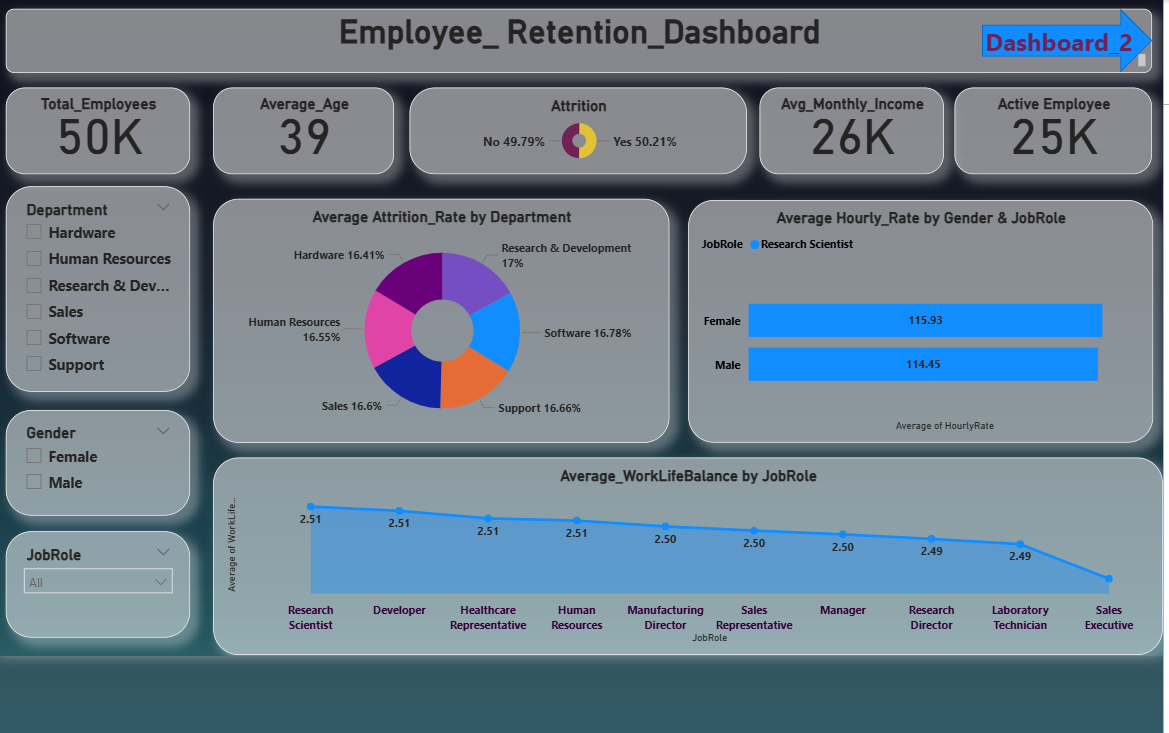

The page's visual inventory and layout, read from the dashboard file:
{"tool":"powerbi","page":{"name":"Dashboard_1","canvas":[1280,720],"ordinal":6},"visuals":[{"type":"card","title":"Total_Employees","fields":{"Values":["CountNonNull(Sheet1 (2).Employee_ID)"]},"box":[10,96.2,202.5,95],"z":0},{"type":"textbox","title":"Employee_ Retention_Dashboard","box":[10,10,1258.8,70],"z":1000},{"type":"card","title":"Average_Age","fields":{"Values":["Avg(Sheet1.Age)"]},"box":[237.5,96.2,198.8,95],"z":2000},{"type":"card","title":"Avg_Monthly_Income","fields":{"Values":["Avg(Sheet1 (2).MonthlyIncome)"]},"box":[837.5,96.2,202.5,95],"z":3000},{"type":"donutChart","title":" Attrition","fields":{"Category":["Sheet1.Attrition"],"Y":["CountNonNull(Sheet1.Attrition)"]},"box":[453.5,96.5,370.3,95.3],"z":4000},{"type":"clusteredBarChart","title":"Average Hourly_Rate by Gender & JobRole","fields":{"Category":["Sheet1.Gender"],"Series":["Sheet1.JobRole"],"Y":["Avg(Sheet1.HourlyRate)"]},"box":[758.6,219.5,510.2,266.5],"z":5000},{"type":"stackedAreaChart","title":"Average_WorkLifeBalance by JobRole","fields":{"Category":["Sheet1.JobRole"],"Y":["Avg(Sheet1 (2).WorkLifeBalance)"]},"box":[237.6,502.9,1042,217.1],"z":6000},{"type":"slicer","fields":{"Values":["Sheet1.Department"]},"box":[9.6,203.8,202.6,225.5],"z":7000},{"type":"slicer","fields":{"Values":["Sheet1.Gender"]},"box":[9.6,449.8,202.6,115.8],"z":8000},{"type":"shape","box":[1081.8,9.6,186.9,69.9],"z":9000},{"type":"slicer","fields":{"Values":["Sheet1.JobRole"]},"box":[9.6,582.5,202.6,117],"z":10000},{"type":"pieChart","title":"Average Attrition_Rate by Department","fields":{"Category":["Sheet1.Department"],"Y":["Avg(Sheet1.Attrition_Rate1)"]},"box":[237.6,218.3,500.5,267.7],"z":11000},{"type":"card","title":"Active Employee","fields":{"Values":["CountNonNull(Sheet1.Attrition)"]},"box":[1051.7,96.5,217.1,95.3],"z":12000}]}

Visuals, with their boxes in screenshot pixels (x1, y1, x2, y2):
"Total_Employees" card: [27, 84, 210, 169]
"Employee_ Retention_Dashboard" textbox: [27, 6, 1161, 69]
"Average_Age" card: [232, 84, 411, 169]
"Avg_Monthly_Income" card: [773, 84, 955, 169]
" Attrition" donutChart: [427, 84, 760, 170]
"Average Hourly_Rate by Gender & JobRole" clusteredBarChart: [702, 195, 1161, 435]
"Average_WorkLifeBalance by JobRole" stackedAreaChart: [232, 450, 1168, 645]
slicer - Sheet1.Department: [27, 181, 209, 384]
slicer - Sheet1.Gender: [27, 402, 209, 506]
shape: [993, 6, 1161, 69]
slicer - Sheet1.JobRole: [27, 522, 209, 627]
"Average Attrition_Rate by Department" pieChart: [232, 194, 683, 435]
"Active Employee" card: [965, 84, 1161, 170]
